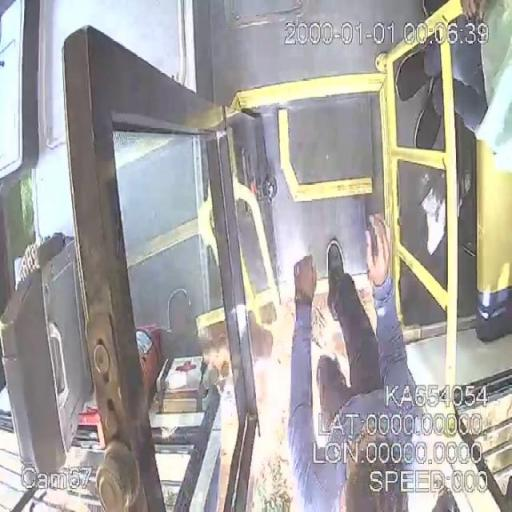persona: (286, 212, 424, 510)
